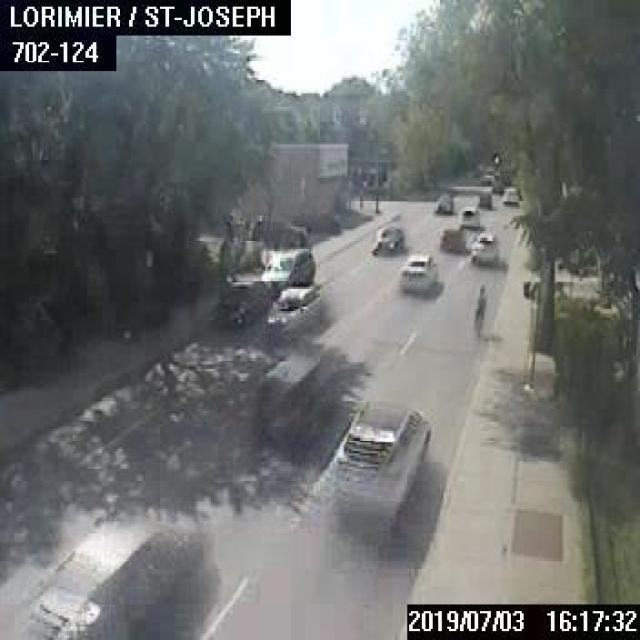cyclist: (472, 283, 486, 336)
vehicle: (21, 521, 176, 638), (328, 400, 429, 523), (256, 347, 333, 433), (264, 288, 319, 338), (214, 278, 266, 326), (260, 247, 313, 288), (250, 213, 305, 247), (398, 251, 436, 290), (369, 224, 403, 254), (469, 230, 498, 263), (438, 226, 465, 252), (458, 205, 478, 228), (500, 186, 518, 203), (435, 194, 451, 212), (476, 190, 491, 208), (482, 166, 492, 184)
